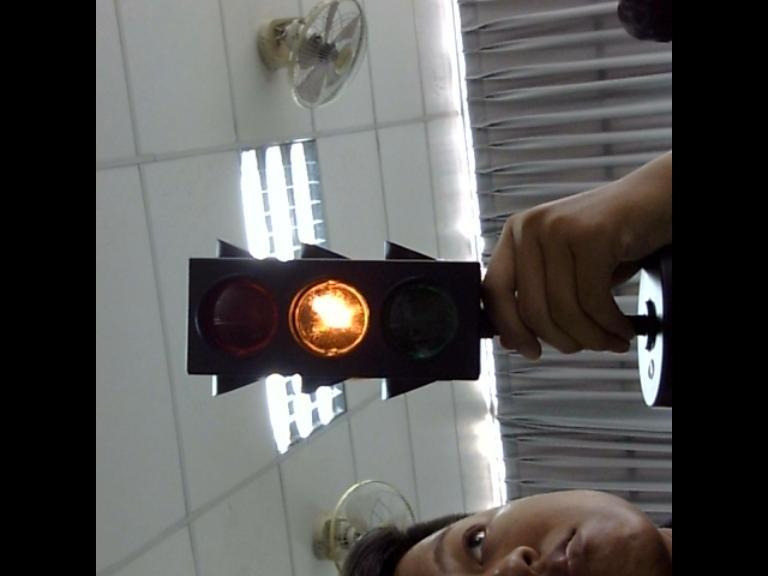yellow: (282, 274, 372, 366)
